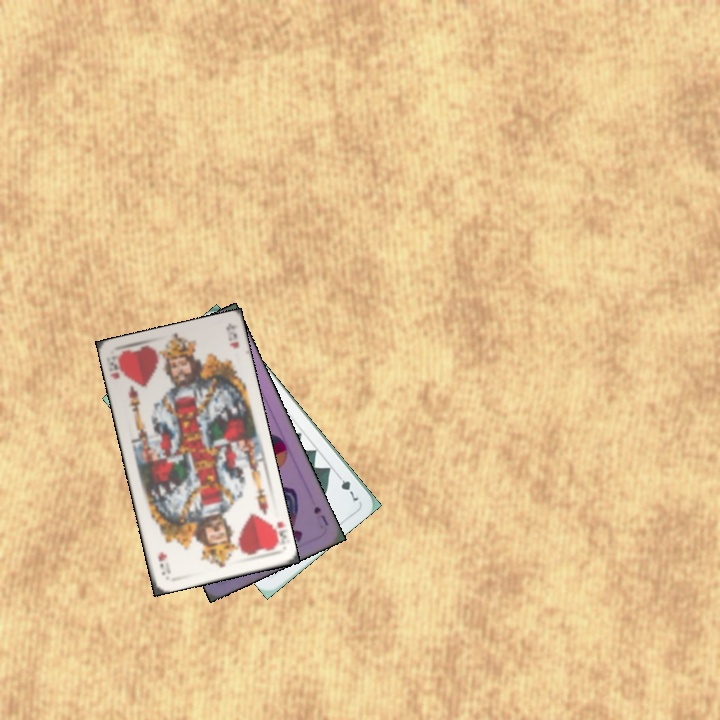G7: (332, 469, 361, 504)
HK: (265, 516, 286, 551), (106, 352, 127, 381)
SU: (310, 502, 331, 528)
